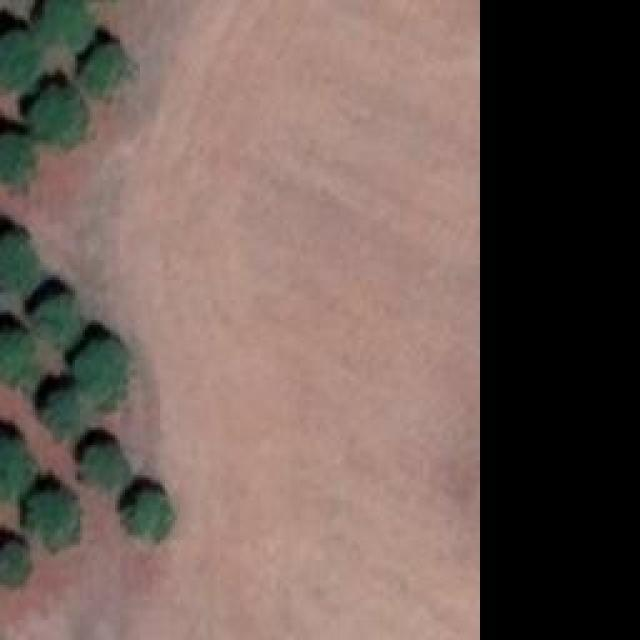Tree: (68, 335, 128, 403), (27, 490, 85, 550), (78, 45, 131, 105), (35, 0, 90, 50), (33, 88, 83, 141), (125, 490, 175, 540), (0, 233, 38, 293), (35, 290, 78, 343), (0, 32, 38, 90), (0, 438, 35, 498), (80, 445, 123, 488), (0, 133, 35, 183), (0, 332, 35, 380), (43, 390, 83, 430), (0, 538, 28, 583)
